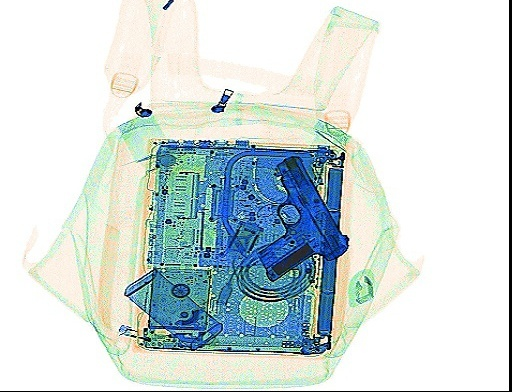zippooil: (121, 268, 223, 351)
